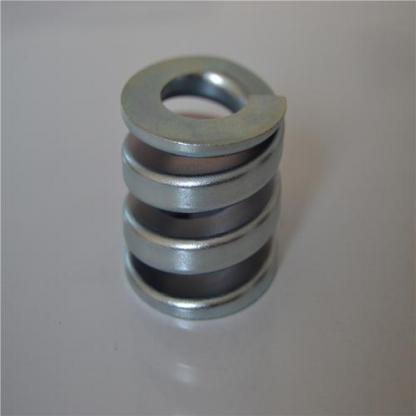FOD: (116, 51, 291, 322)
